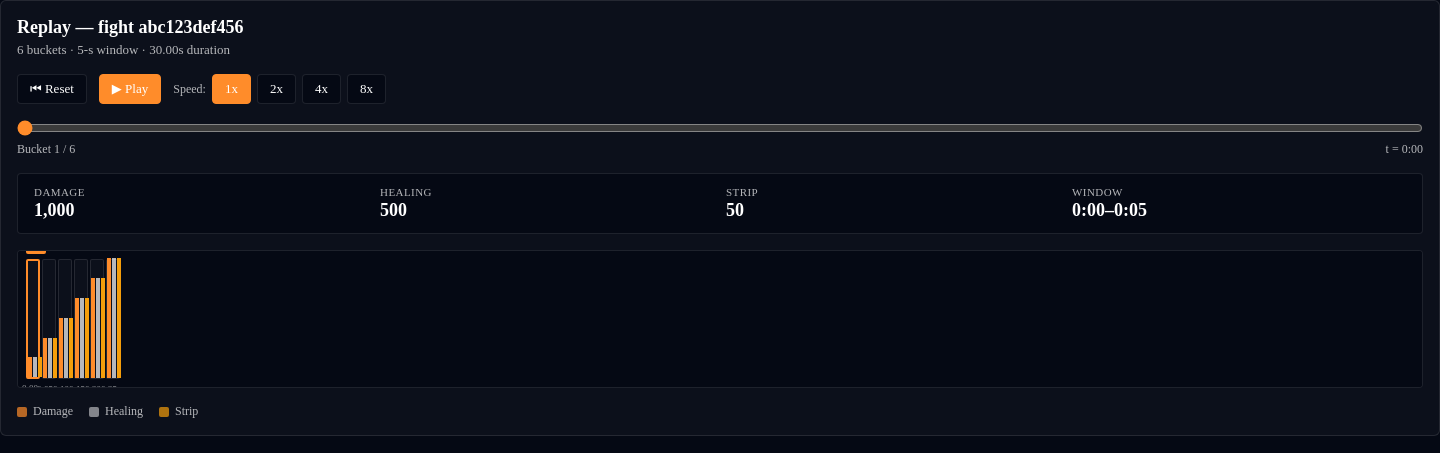
Test: ReplayPlayer › Play click registers a setInterval that advances currentIndex by 1 every windowS*1000/speed ms
This screenshot has width=1440, height=453.
Click the button with test id "replay-play-pause" at [130, 89], box [99,74,161,104]
Wait 20000 ms
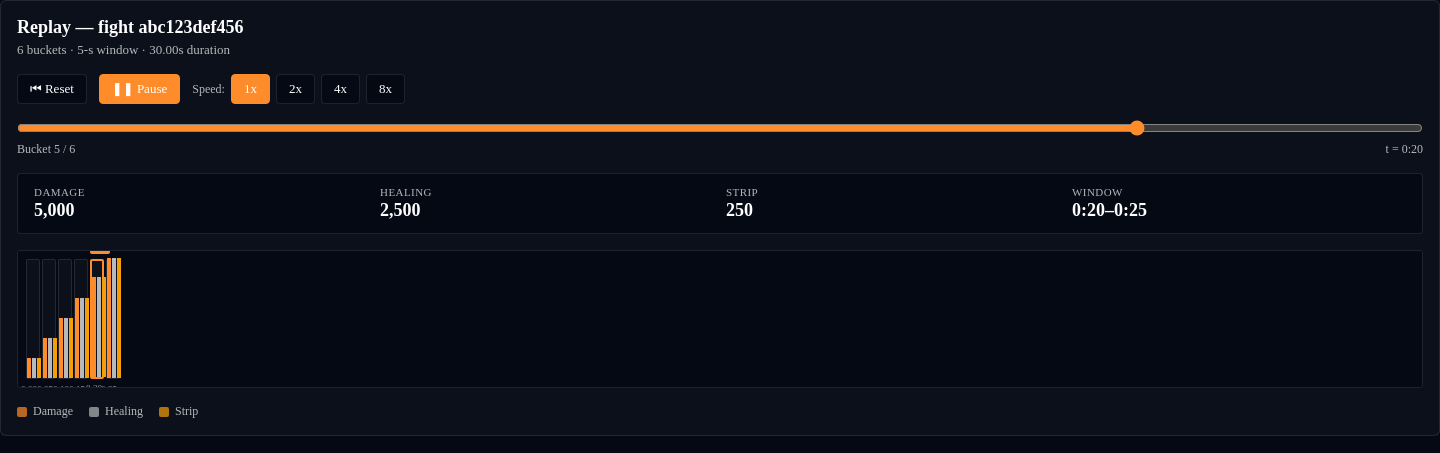
Check: the text "Bucket 5 / 6" is shown, box [17,142,75,157]
